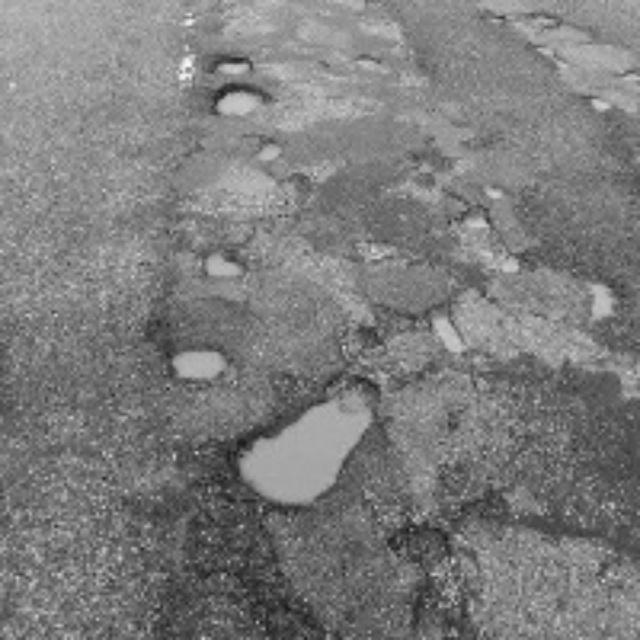Pothole: (230, 370, 364, 499), (154, 334, 228, 386), (570, 267, 623, 317), (422, 305, 466, 352), (196, 249, 256, 281), (216, 84, 263, 120), (211, 57, 253, 74)
